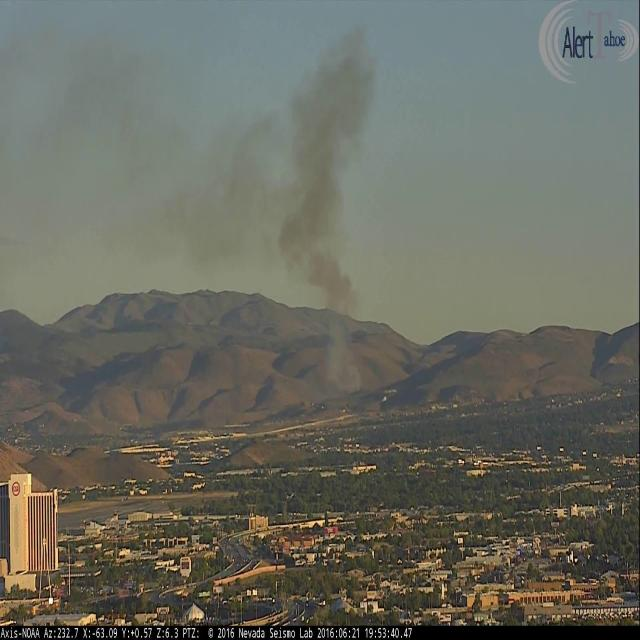smoke: (6, 17, 381, 394)
